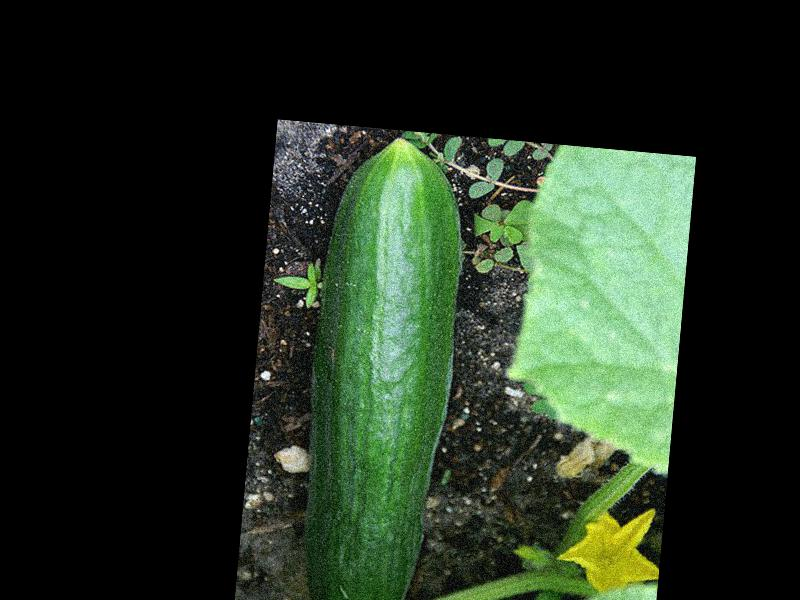Cucumber: (288, 130, 472, 600)
